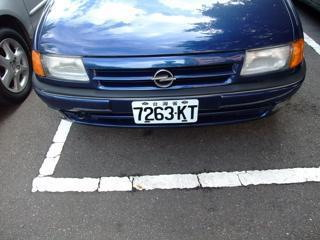plate: (128, 98, 199, 124)
